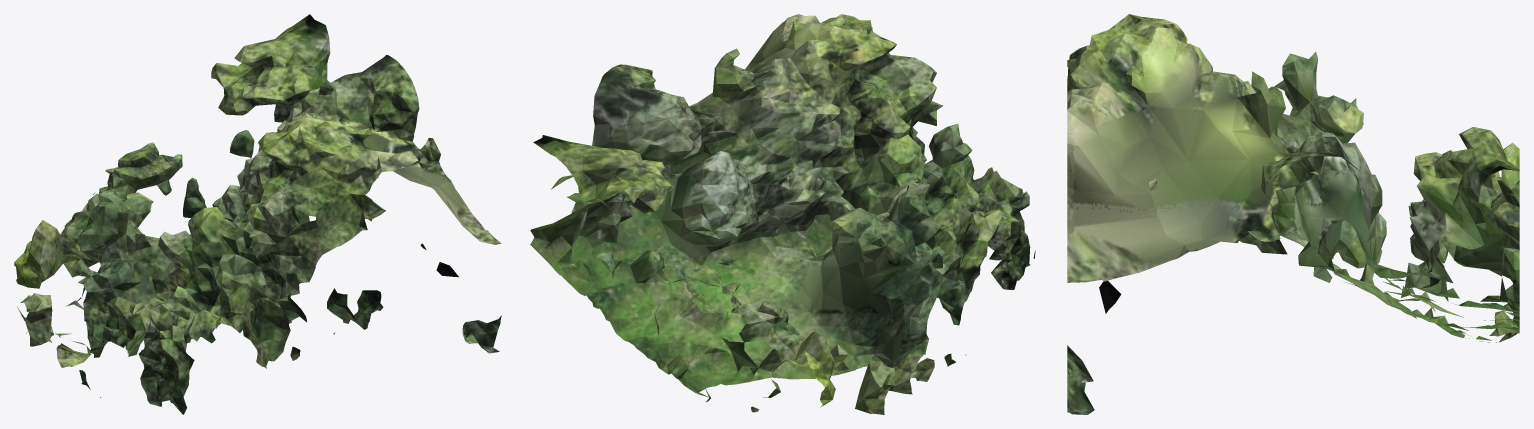
3 views of the same model, side by side, from view 1: azimuth 30°, elevation 25°; view 2: azimuth 150°, elevation 25°; view 3: azimuth 270°, elevation 25° (orthographic). The views are drawn at different scales.
Size of the model in its own units: 52.22 by 40.57 by 52.22.
Materials: 7 (7 with a texture image).
